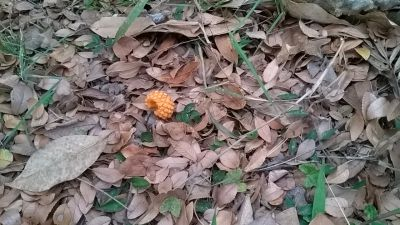eggs: (144, 89, 174, 119)
